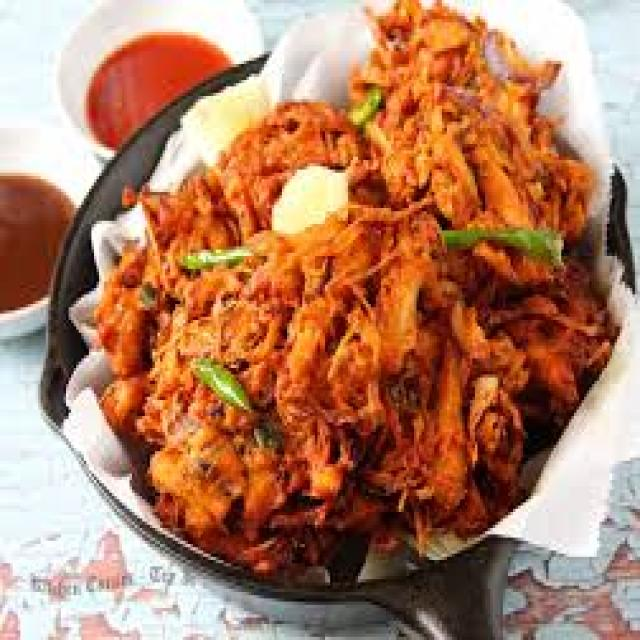BAJI: (93, 2, 626, 588)
